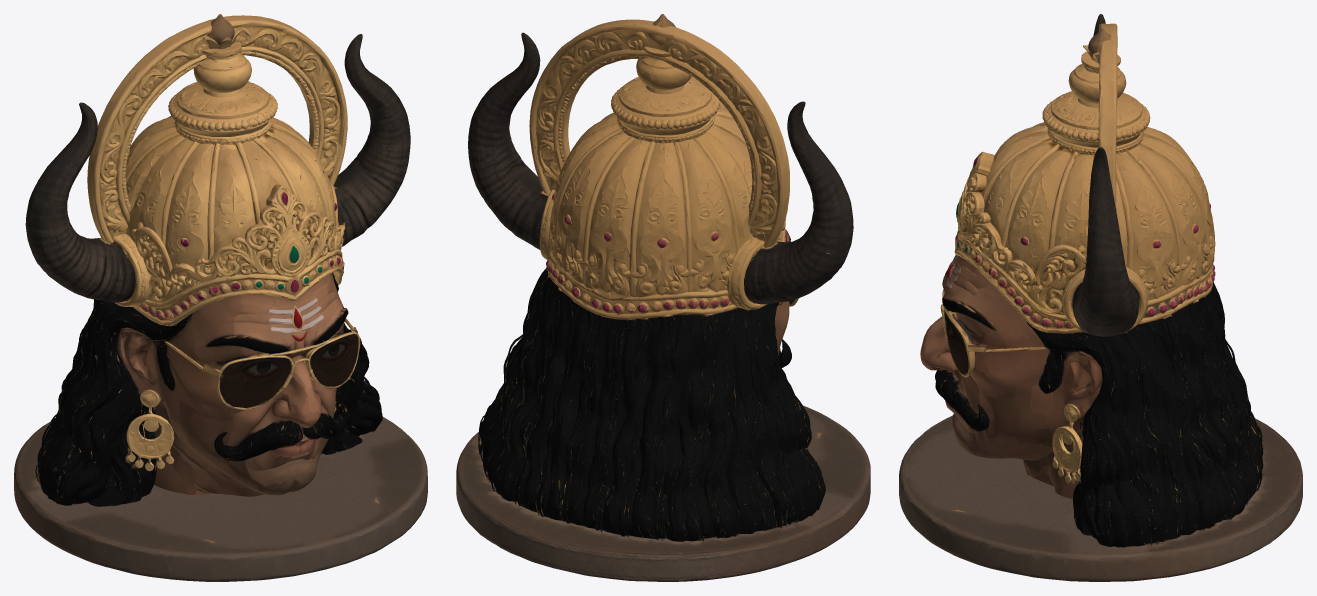
File: ravan-head2.glb
3 renders of one model, left to right at view 1: azimuth 30°, elevation 25°; view 2: azimuth 150°, elevation 25°; view 3: azimuth 270°, elevation 25°, orthographic. The views are drawn at different scales.
Visible parts, largest first — view 1: mesh_node; view 2: mesh_node; view 3: mesh_node.
Boxes of the visible parts, x1,y1,x2,y2 form: mesh_node: [14, 14, 427, 581]; mesh_node: [456, 14, 870, 581]; mesh_node: [899, 14, 1302, 581].
Size of the model in its own units: 1.57 by 1.9 by 1.48.
Materials: 1 (1 with a texture image).
